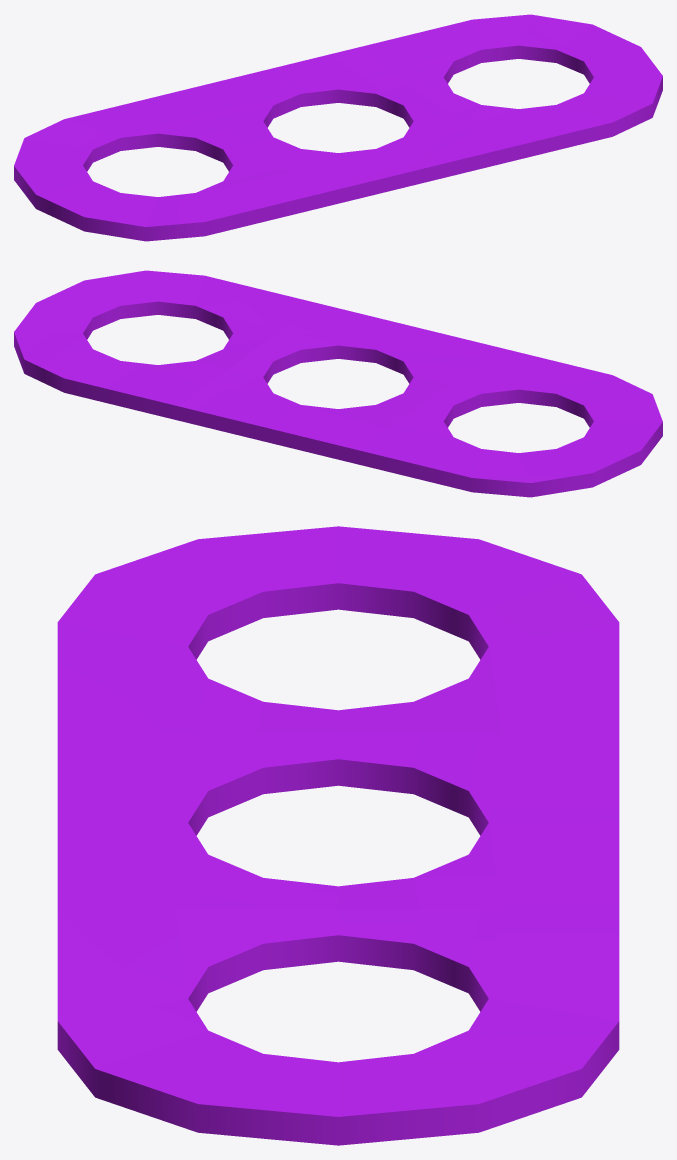
Rendered from ThreeLongPink.fbx.
The picture shows the model from 3 angles, top to bottom: view 1: azimuth 30°, elevation 25°; view 2: azimuth 150°, elevation 25°; view 3: azimuth 270°, elevation 25°; orthographic projection. The views are drawn at different scales.
Parts seen in each view (by area): view 1: Blue3; view 2: Blue3; view 3: Blue3.
Part boxes in pixels (bbox=[...]): Blue3: bbox=[14, 14, 662, 241]; Blue3: bbox=[14, 270, 662, 497]; Blue3: bbox=[57, 526, 619, 1145].
Size of the model in its own units: 8.58 by 0.1942 by 3.45.
